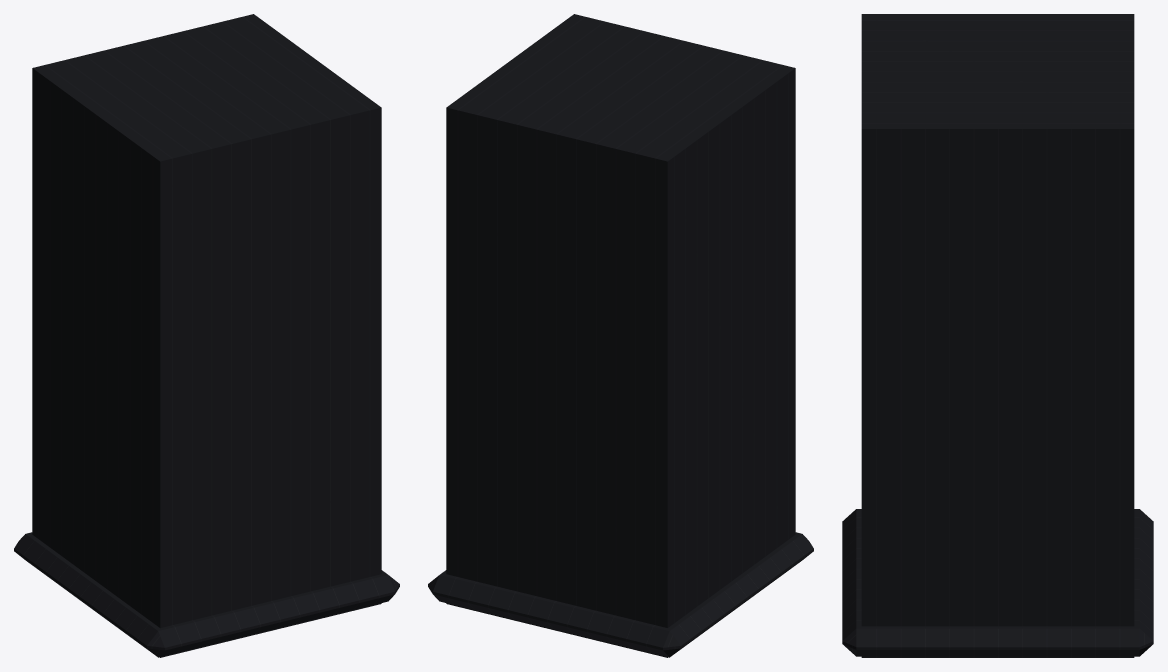
File: kit_traffic_cone.glb
The picture shows the model from 3 angles, left to right: view 1: azimuth 30°, elevation 25°; view 2: azimuth 150°, elevation 25°; view 3: azimuth 270°, elevation 25°; orthographic projection. The views are drawn at different scales.
Parts seen in each view (by area): view 1: cn_COL, cn_base; view 2: cn_COL, cn_base; view 3: cn_COL, cn_base.
Boxes of the visible parts, x1,y1,x2,y2 form: cn_COL: (32, 14, 381, 657); cn_base: (14, 532, 399, 657); cn_COL: (446, 14, 795, 657); cn_base: (428, 532, 813, 657); cn_COL: (861, 14, 1134, 657); cn_base: (842, 509, 1153, 656).
Size of the model in its own units: 0.4 by 0.75 by 0.4.
3 materials, 3 textured.
